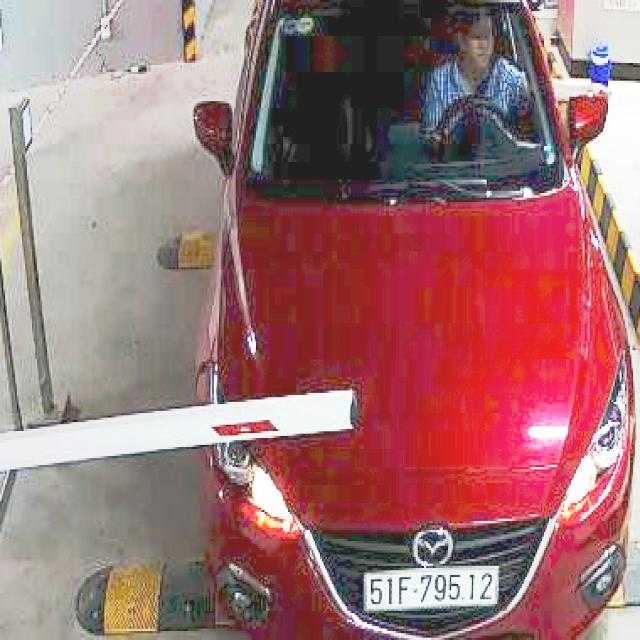license_plate: (370, 571, 497, 612)
